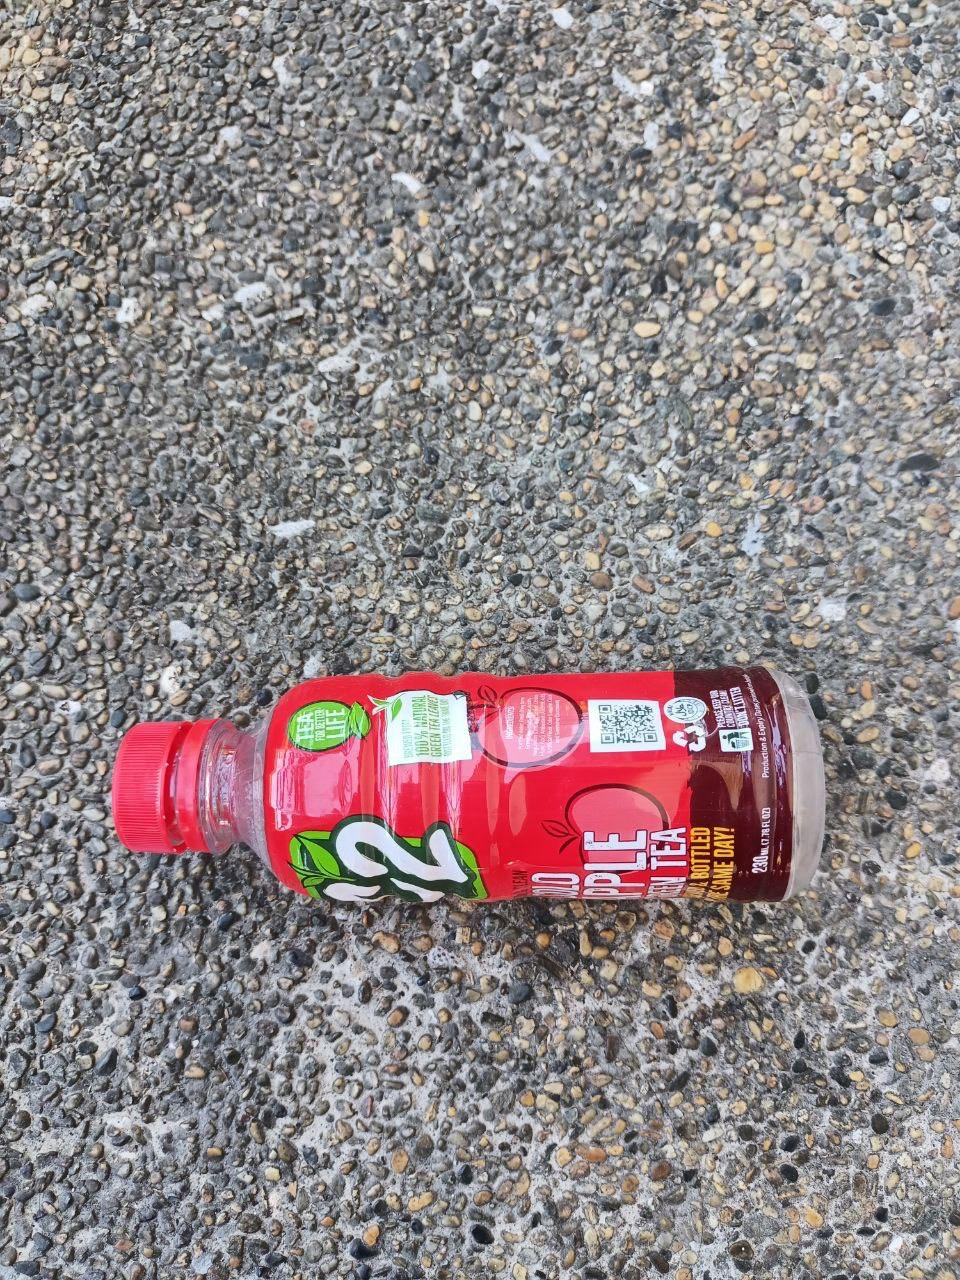plastic: (56, 606, 923, 981)
